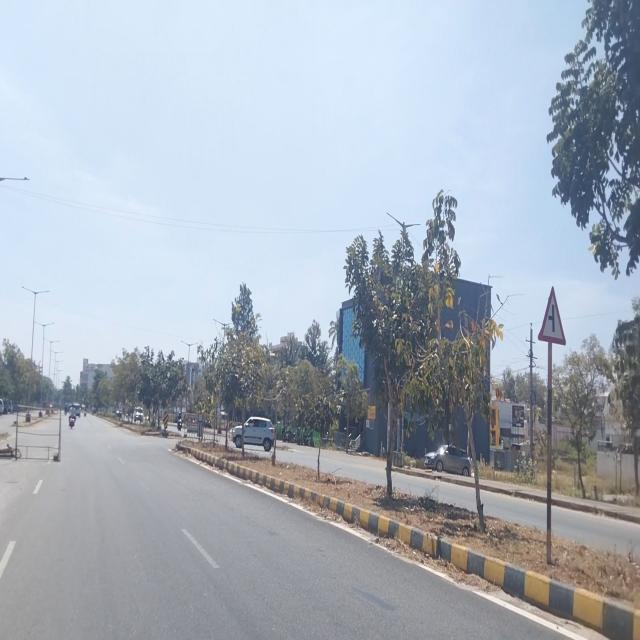bien_cam: (536, 280, 568, 342)
